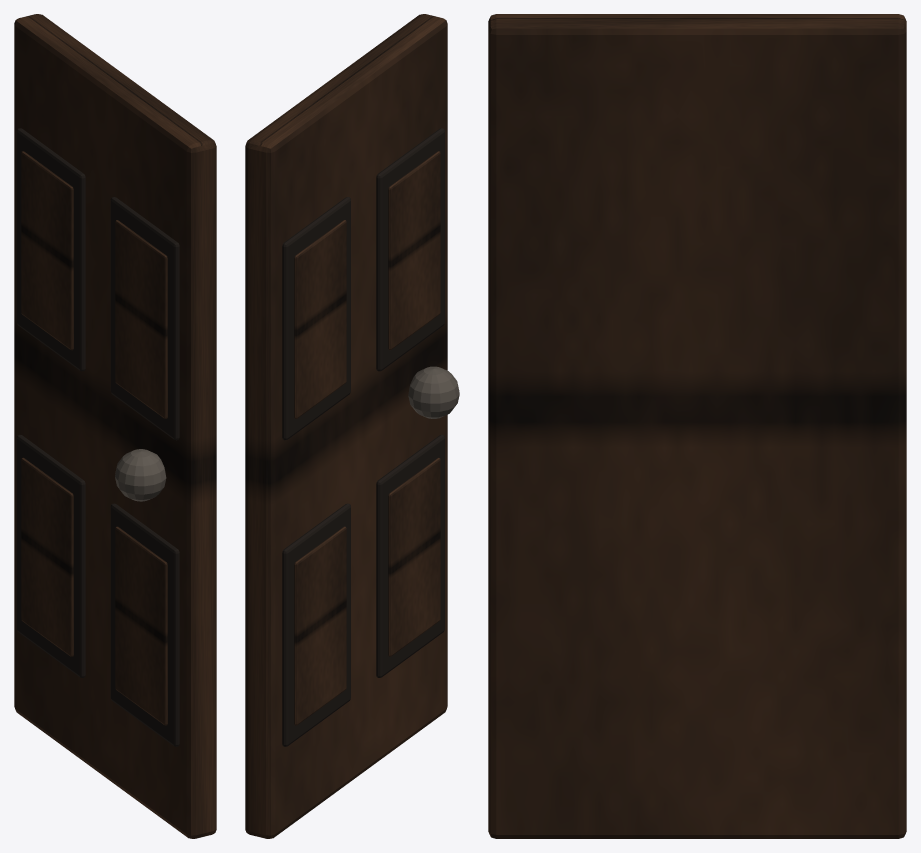
The model's file is worn-door.glb.
3 views of the same model, side by side, from view 1: azimuth 30°, elevation 25°; view 2: azimuth 150°, elevation 25°; view 3: azimuth 270°, elevation 25° (orthographic). The views are drawn at different scales.
Visible parts, largest first — view 1: SM_lonely_house_worn_door_DarkWood, SM_lonely_house_worn_door_SootBlack, SM_DoorKnob; view 2: SM_lonely_house_worn_door_DarkWood, SM_lonely_house_worn_door_SootBlack, SM_DoorKnob; view 3: SM_lonely_house_worn_door_DarkWood.
Part boxes in pixels (<box>): SM_lonely_house_worn_door_DarkWood: <box>14,14,216,838</box>; SM_lonely_house_worn_door_SootBlack: <box>16,128,179,746</box>; SM_DoorKnob: <box>115,449,166,501</box>; SM_lonely_house_worn_door_DarkWood: <box>245,14,447,838</box>; SM_lonely_house_worn_door_SootBlack: <box>282,128,444,746</box>; SM_DoorKnob: <box>408,366,459,418</box>; SM_lonely_house_worn_door_DarkWood: <box>488,14,906,838</box>.
Bounding box in the file's own units: 0.21 × 2.04 × 0.95.
Materials: 3 (1 with a texture image).
